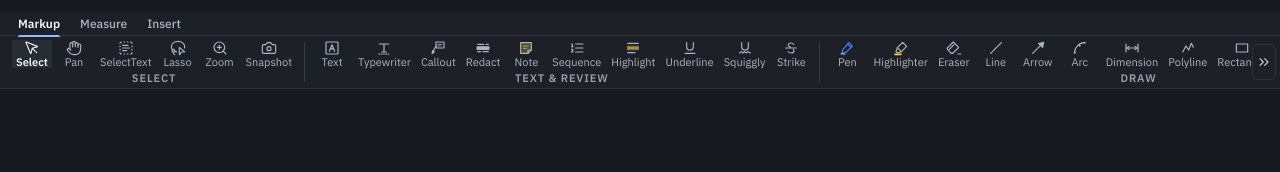
Test: Cinta de herramientas - Medición y calibración (Paquete 4) › agrupa las herramientas por tarea con rótulo visible (Selección, Texto y revisión, Dibujo, Medición)
The image size is (1280, 172).
Expected: the element with test id "ribbon-group-select" is shown, [4,36,304,88]
Expected: the element with test id "ribbon-group-draw" is shown, [820,36,1252,88]
# La herramienta activa se marca con aria-pressed y muestra su nombre bajo el icono
Click the button with test id "tool-rectangle" at [1242, 54], box [1213,40,1271,68]
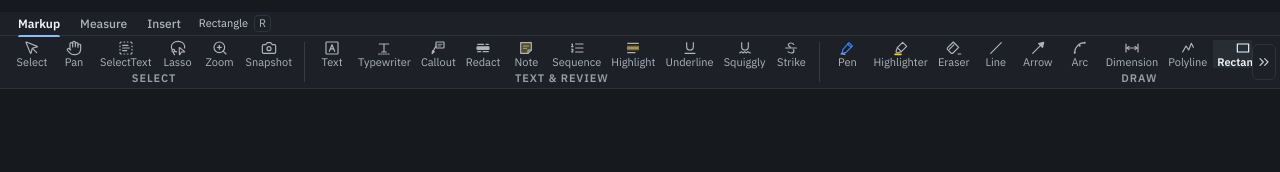
Expected: the button with test id "tool-rectangle" reads "Rectangle", [1213,40,1252,68]
Now the button with test id "tool-rectangle" is pressed, box [1213,40,1252,68]
# Pestaña Measure: Selección sigue a la vista
Click the tab with test id "ribbon-tab-measure" at [104, 24], box [70,12,137,36]
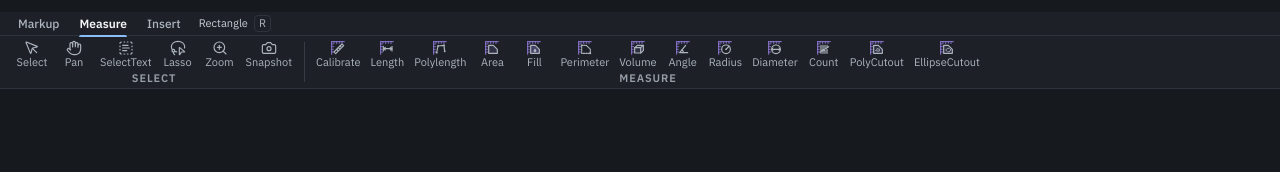
Expected: the element with test id "ribbon-group-select" is shown, [4,36,304,88]
Now the element with test id "ribbon-group-measure" shows "Measure", box [619,71,677,85]
Now the element with test id "ribbon-group-draw" is gone
